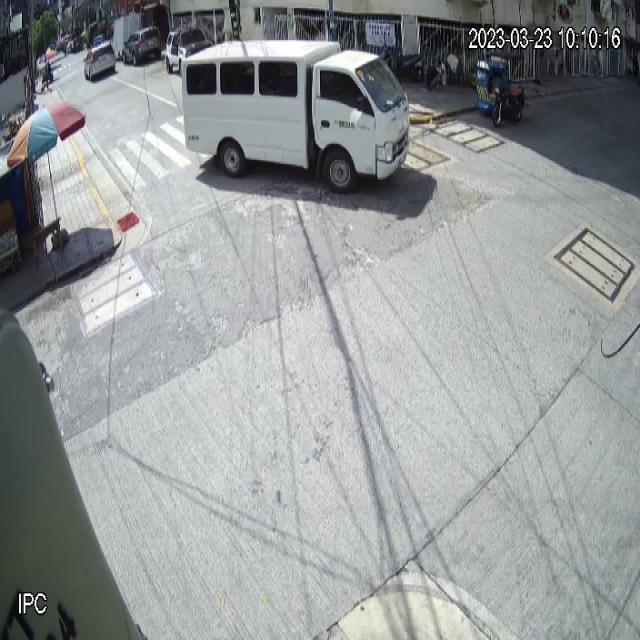Tricycle: (475, 49, 528, 128)
Van: (180, 38, 410, 192)
